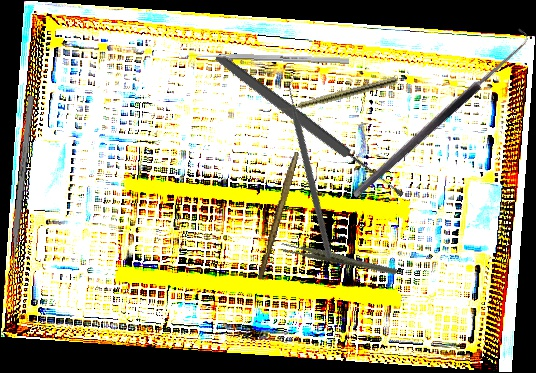Chopper: (219, 71, 408, 260)
Handpiece: (275, 75, 399, 116)
Hook Surgical: (343, 25, 535, 201)
Pusher: (7, 95, 35, 286), (187, 52, 350, 64)
Scalpel Handle: (256, 150, 300, 281)
Surgical Spoon: (213, 50, 406, 202)
Tissue Forceps: (278, 223, 399, 296)
